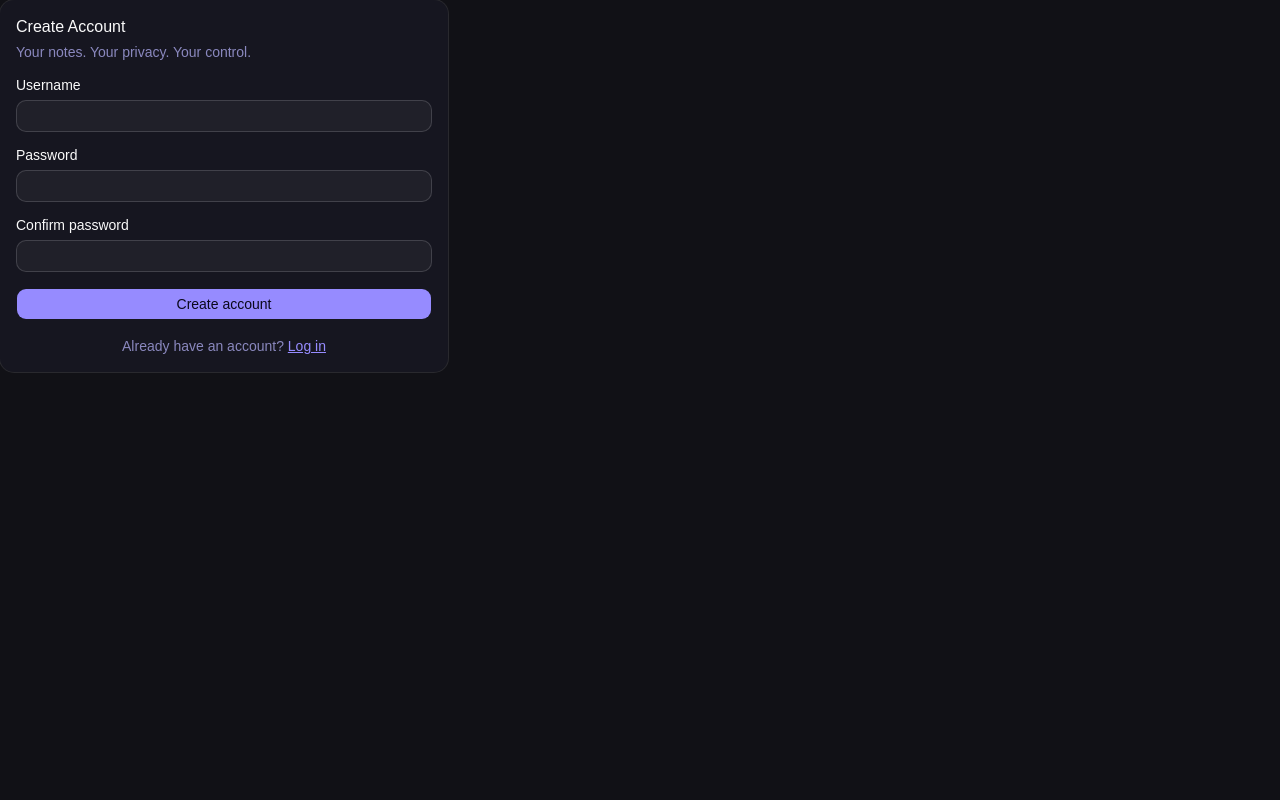
Test: RegisterPage › opens mnemonic dialog on successful submit
Type "testuser" into the field labelled "Username".
click(224, 116); type("testuser")  # box [16,100,432,132]
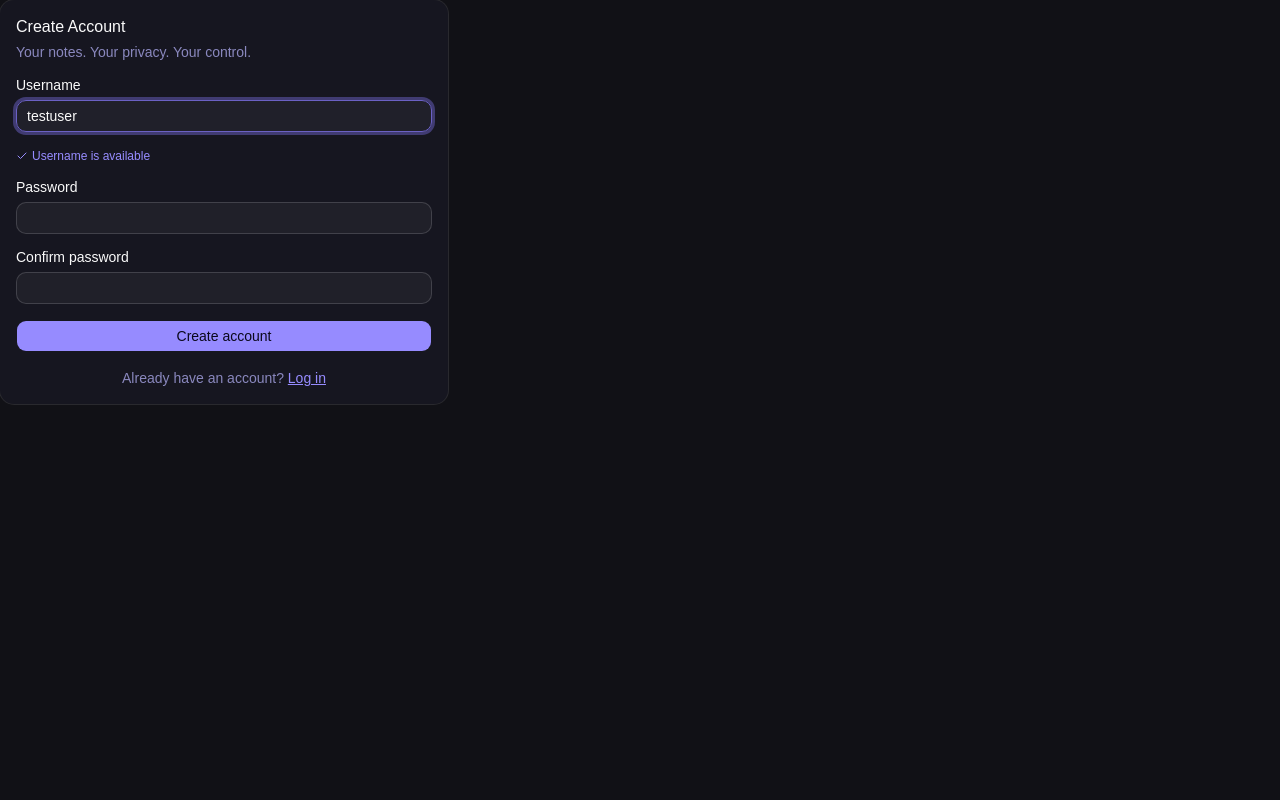
Now the text "Username is available" is shown, box [16,149,150,163]
Type "Password1!" into the password field labelled "Password".
click(224, 218); type("Password1!")  # box [16,202,432,234]
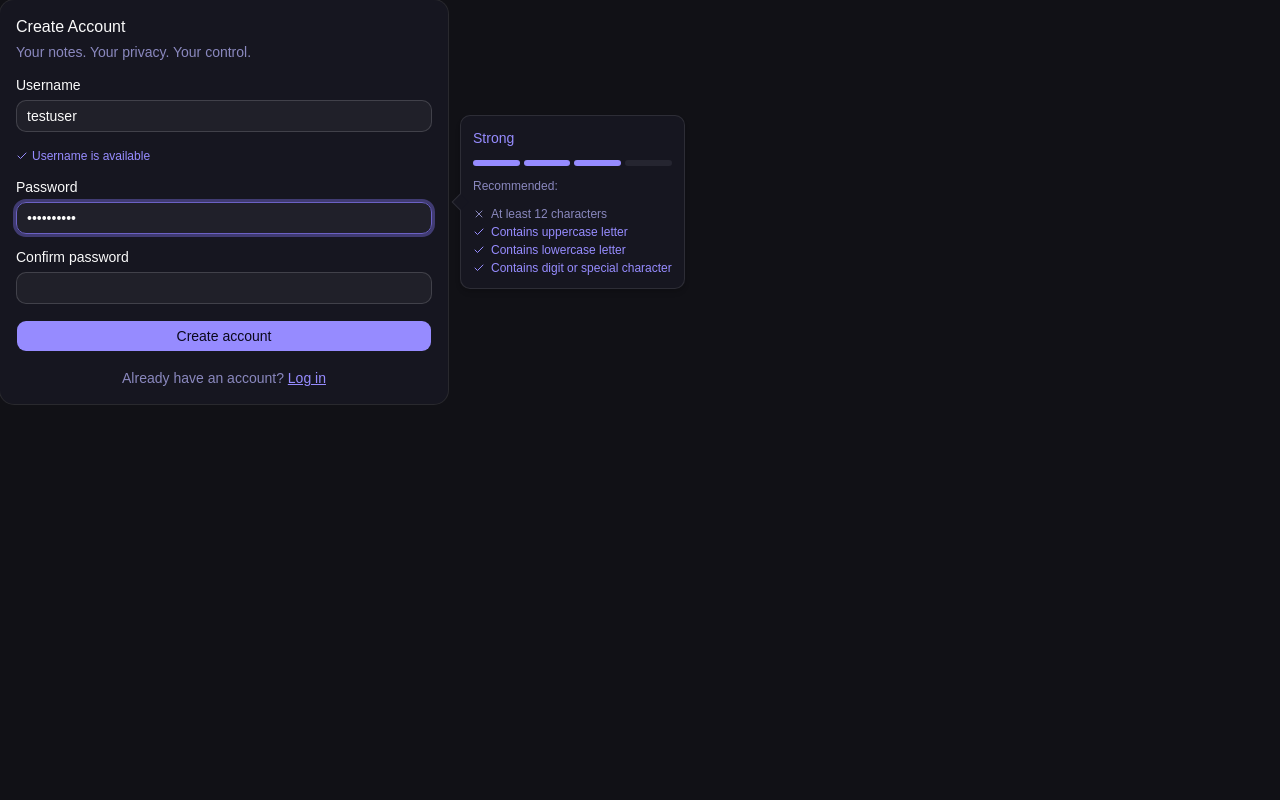
Type "Password1!" into the password field labelled "Confirm password".
click(224, 288); type("Password1!")  # box [16,272,432,304]
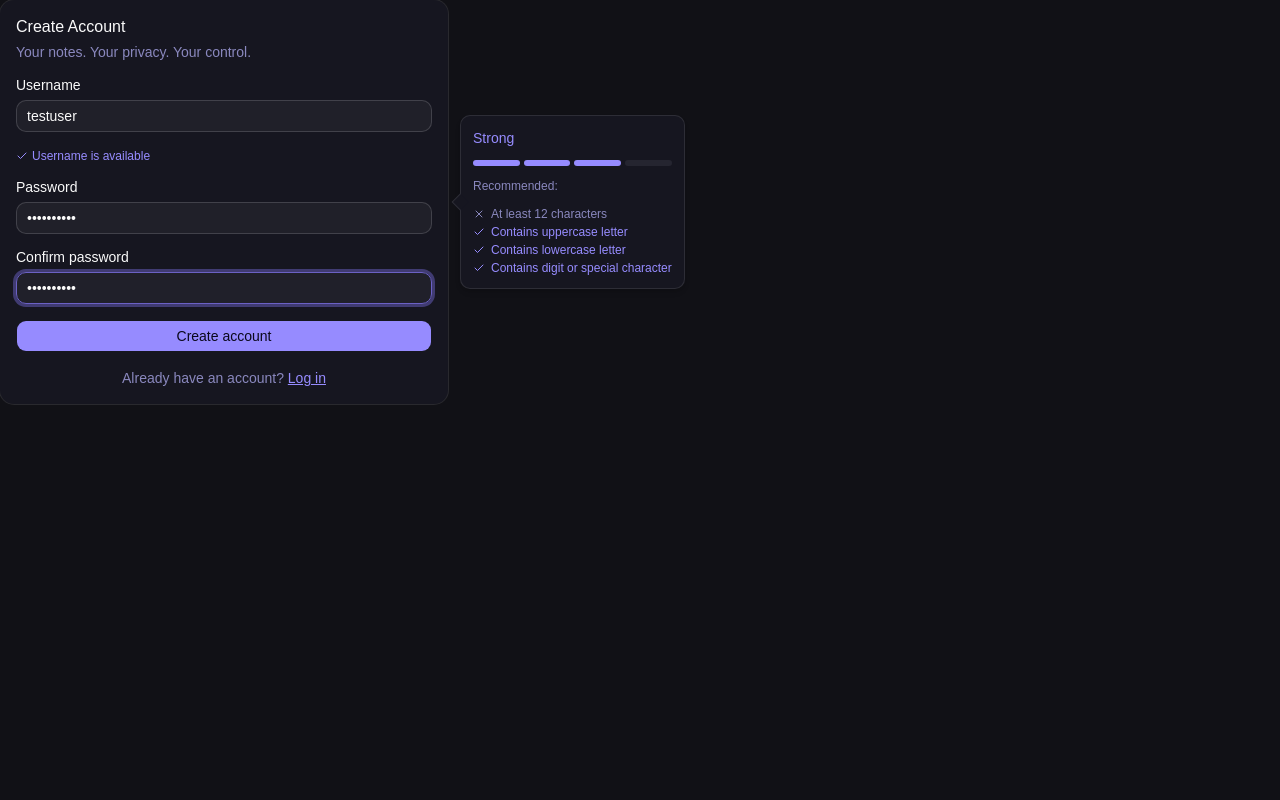
Click the button "Create account".
click(224, 336)  # box [16,320,432,352]
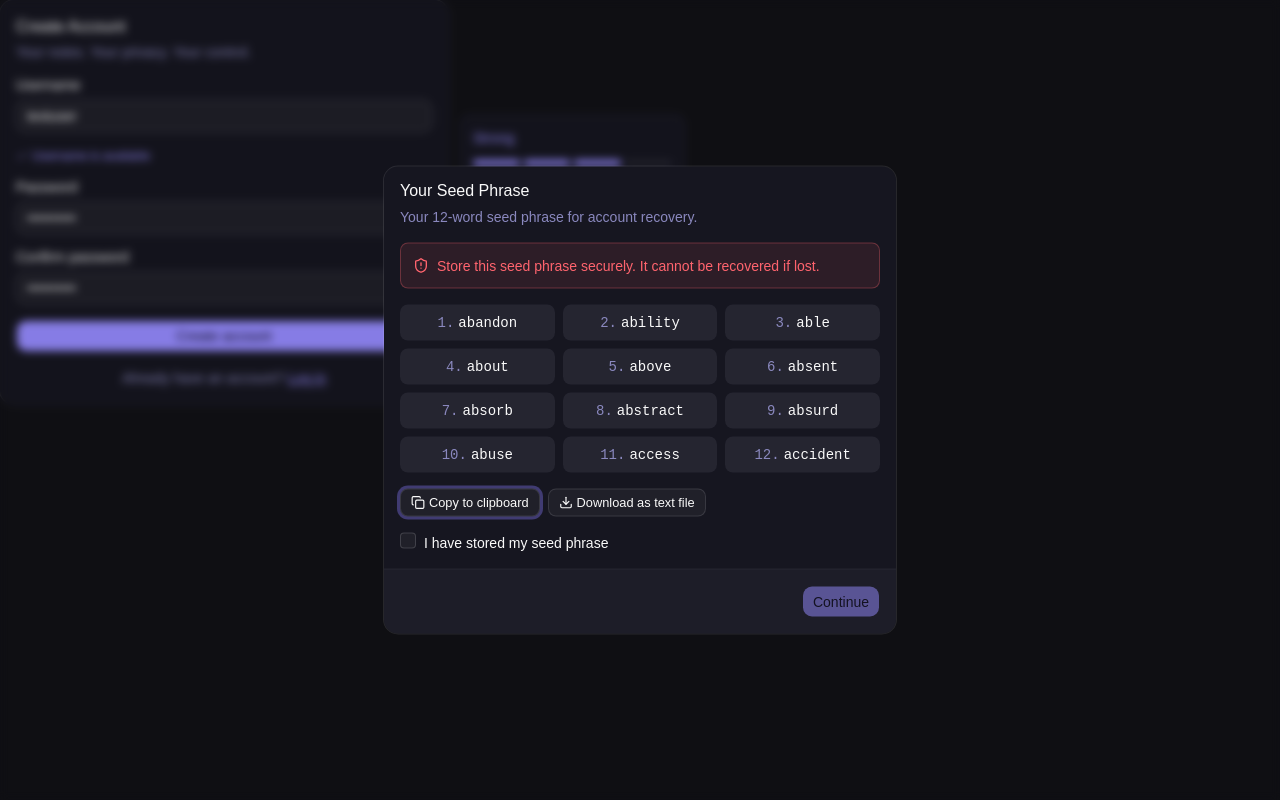
Now the text "abandon" is shown, box [458,314,517,330]
